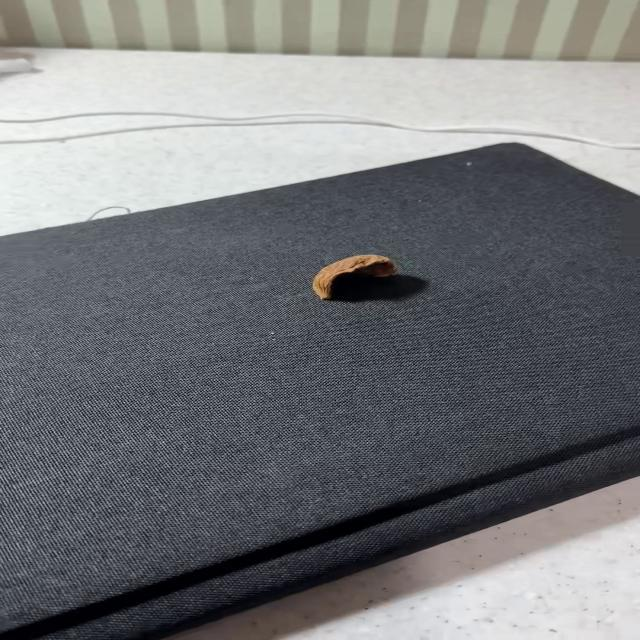nuts-bad0.25: (312, 255, 396, 299)
